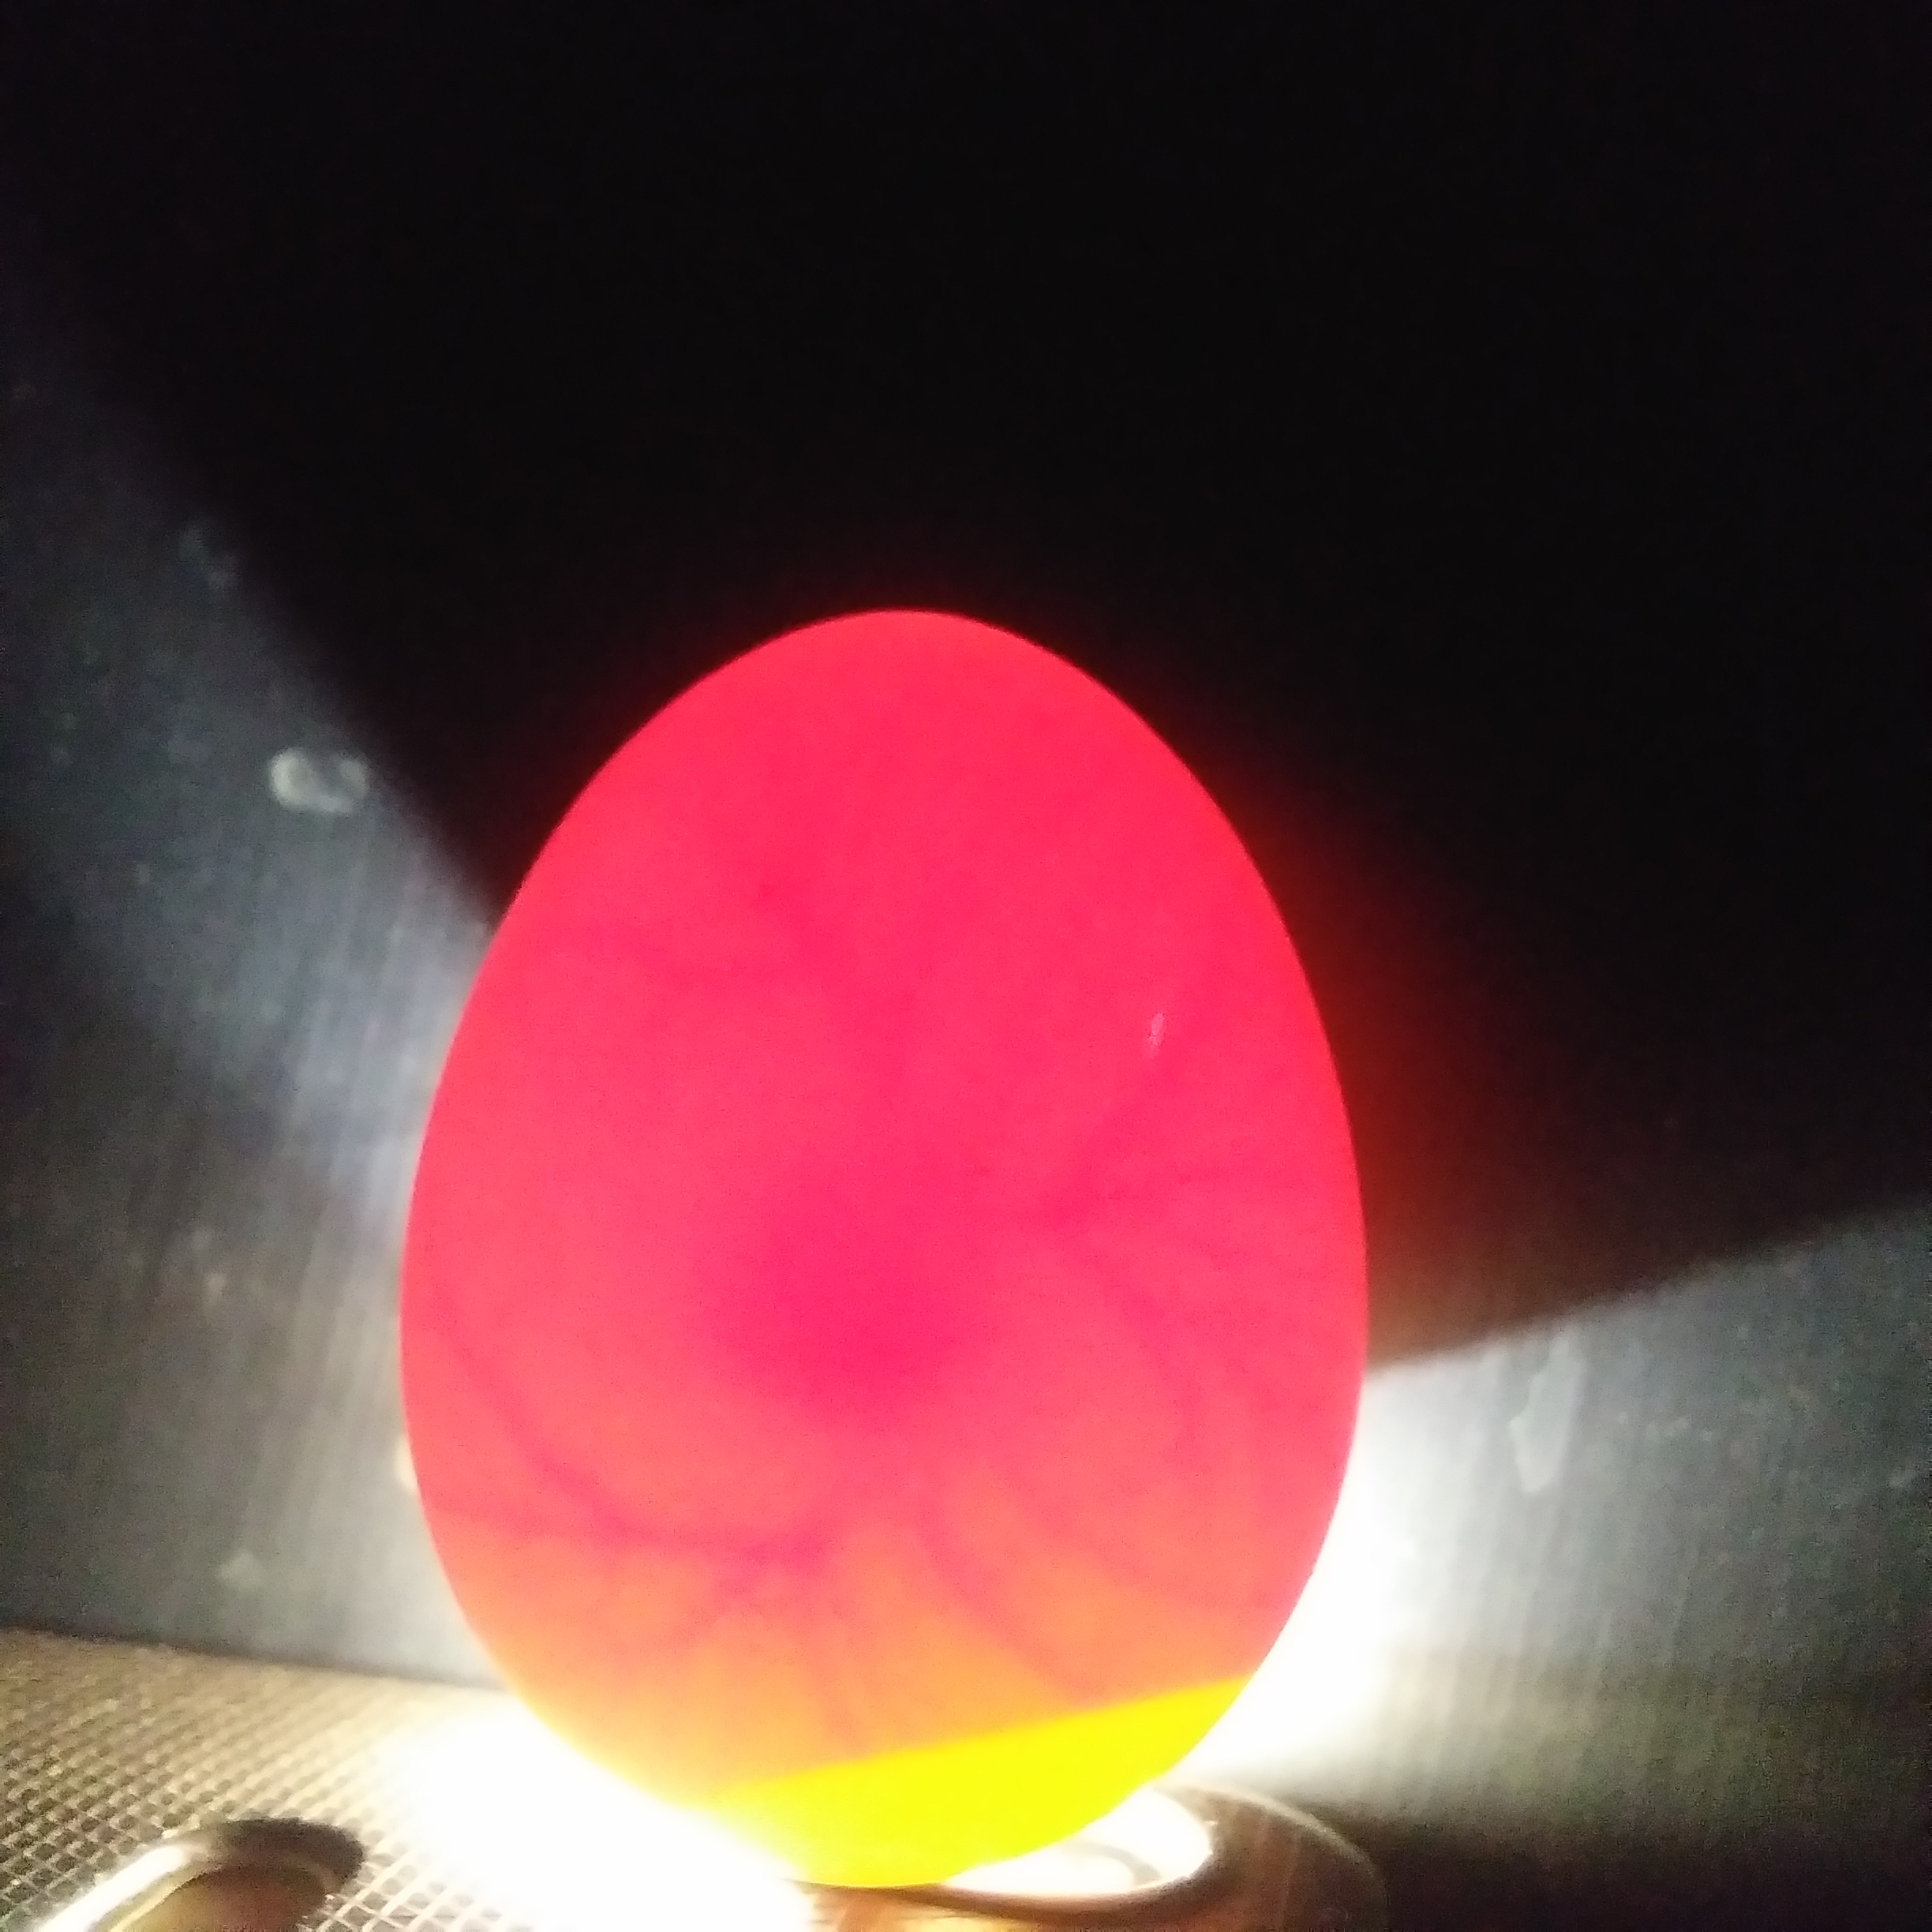bloodcell: (409, 1300, 688, 1591), (757, 1516, 1116, 1691)
embryo: (701, 1152, 1008, 1405)
